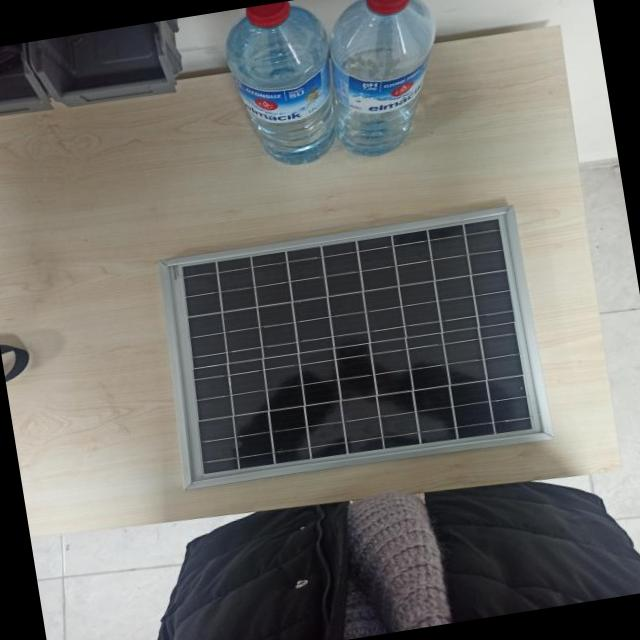no faulty: (187, 220, 523, 476)
